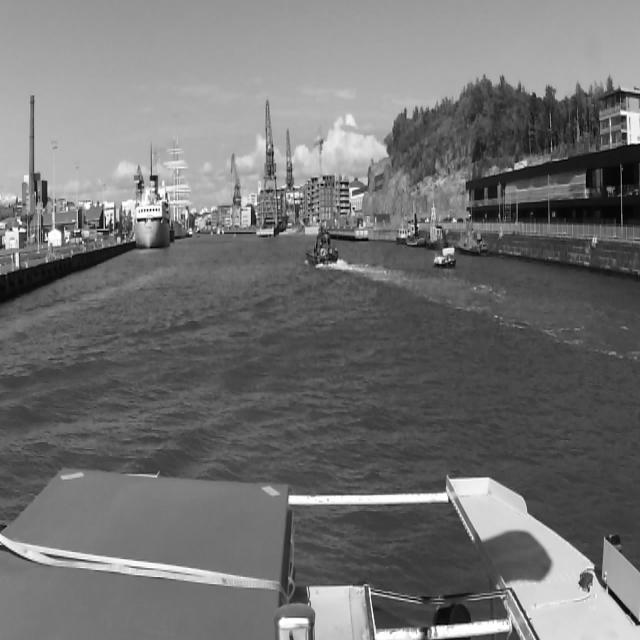ship: (132, 174, 170, 253), (163, 138, 193, 237), (304, 222, 340, 271), (457, 216, 488, 257), (406, 212, 425, 248), (433, 245, 457, 272), (425, 225, 448, 251), (216, 202, 224, 236), (396, 220, 406, 246), (232, 233, 236, 239)
